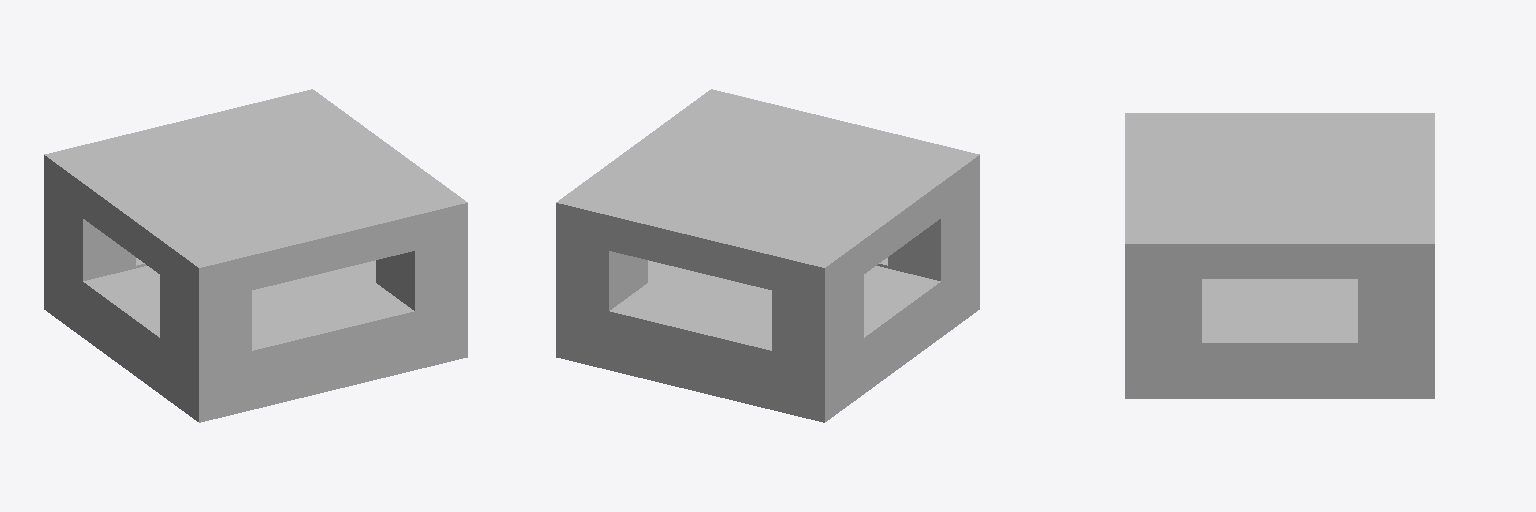
Rendered from tile272.obj.
The picture shows the model from 3 angles: view 1: azimuth 30°, elevation 25°; view 2: azimuth 150°, elevation 25°; view 3: azimuth 270°, elevation 25°; orthographic projection.
Visible parts, largest first — view 1: tile272; view 2: tile272; view 3: tile272.
Part boxes in pixels (bbox=[...]): tile272: bbox=[44, 89, 467, 422]; tile272: bbox=[556, 89, 979, 422]; tile272: bbox=[1125, 113, 1434, 398].
Size of the model in its own units: 1 by 0.55 by 1.